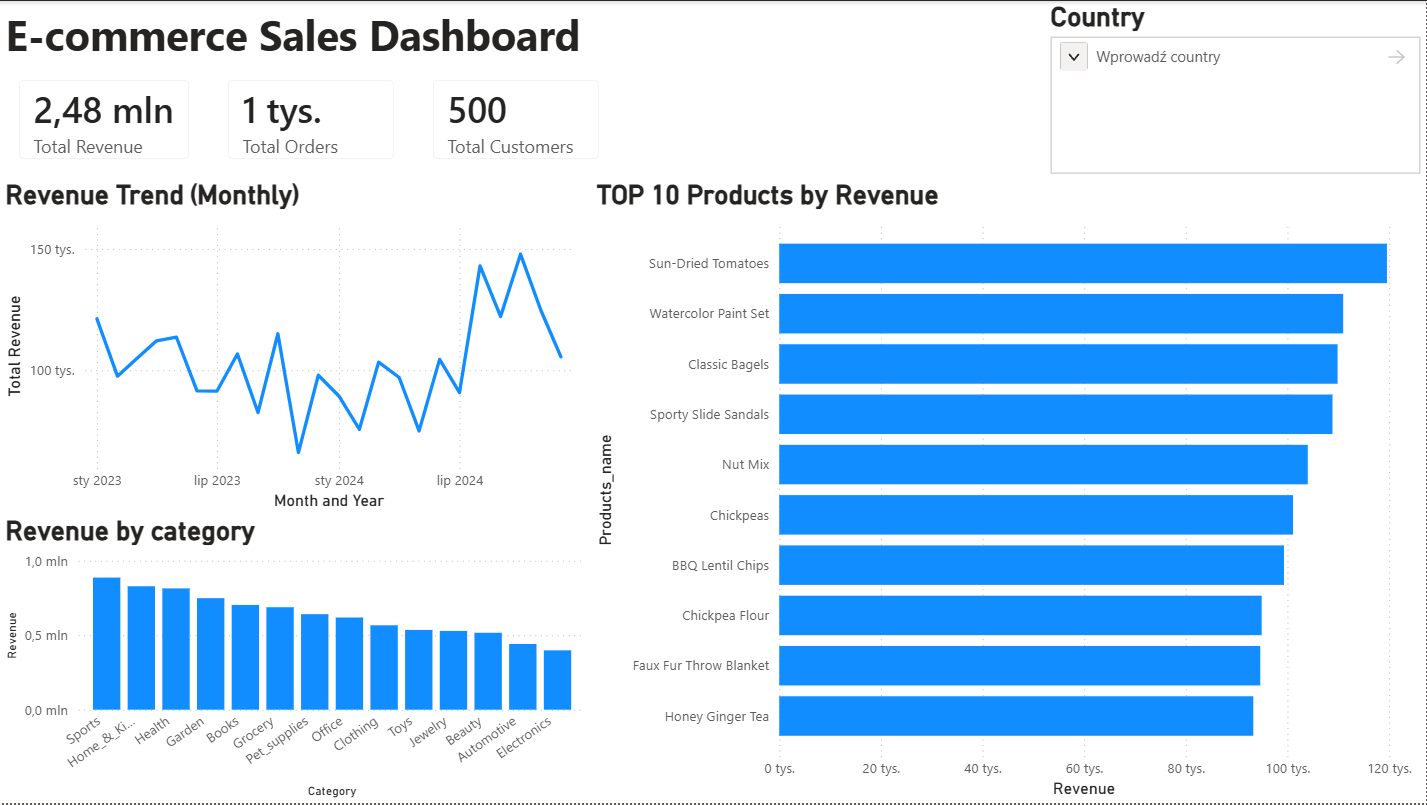

Layout of this report page (visuals, bound fields, positions):
{"tool":"powerbi","page":{"name":"Strona 1","canvas":[1280,720],"ordinal":0},"visuals":[{"type":"lineChart","title":"Revenue Trend (Monthly)","fields":{"Category":["ORDERS_FOR_POWERBI.order_date.Odmiana.Hierarchia dat.Rok","ORDERS_FOR_POWERBI.order_date.Odmiana.Hierarchia dat.Miesiąc"],"Y":["PAYMENTS_FOR_POWERBI.Total Revenue"]},"box":[0,159.9,530.6,301.8],"z":0},{"type":"clusteredBarChart","title":"TOP 10 Products by Revenue","fields":{"Category":["PRODUCTS_POWERBI.name"],"Y":["ORDERS_ITEMS_FOR_POWERBI.Product Revenue"]},"box":[530.6,159.9,742.4,560.6],"z":1000},{"type":"cardVisual","fields":{"Data":["PAYMENTS_FOR_POWERBI.Total Revenue"]},"box":[0,54,187.9,105.9],"z":2000},{"type":"cardVisual","fields":{"Data":["ORDERS_FOR_POWERBI.Total Orders"]},"box":[187.9,54,183.9,105.9],"z":3000},{"type":"cardVisual","fields":{"Data":["CUSTOMERS_FOR_POWERBI.Total Customers"]},"box":[371.7,54,183.9,105.9],"z":4000},{"type":"columnChart","title":"Revenue by category","fields":{"Category":["CATEGORIES_FOR_POWERBI.name"],"Y":["ORDERS_ITEMS_FOR_POWERBI.Product Revenue"]},"box":[0,461.6,530.6,258.8],"z":5000},{"type":"textSlicer","title":"Country","fields":{"Values":["CUSTOMERS_FOR_POWERBI.country"]},"box":[938.3,0,341.7,159.9],"z":6000},{"type":"textbox","box":[0,0,530.6,62],"z":7000}]}

Visuals, with their boxes in screenshot pixels (x1, y1, x2, y2), scaled from the page's 1280x720 canvas onto the 1427x805 screenshot:
"Revenue Trend (Monthly)" lineChart: 0 179 592 516
"TOP 10 Products by Revenue" clusteredBarChart: 592 179 1419 804
cardVisual - PAYMENTS_FOR_POWERBI.Total Revenue: 0 60 209 179
cardVisual - ORDERS_FOR_POWERBI.Total Orders: 209 60 414 179
cardVisual - CUSTOMERS_FOR_POWERBI.Total Customers: 414 60 619 179
"Revenue by category" columnChart: 0 516 592 804
"Country" textSlicer: 1046 0 1426 179
textbox: 0 0 592 69
